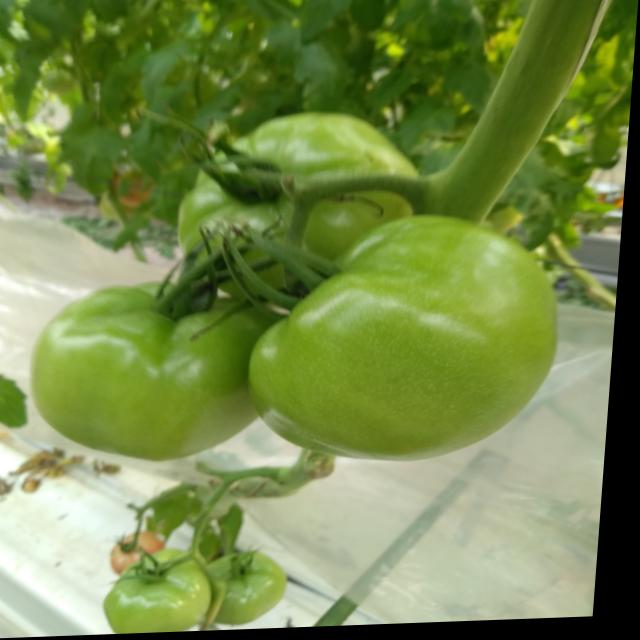yesil: (7, 106, 561, 473)
